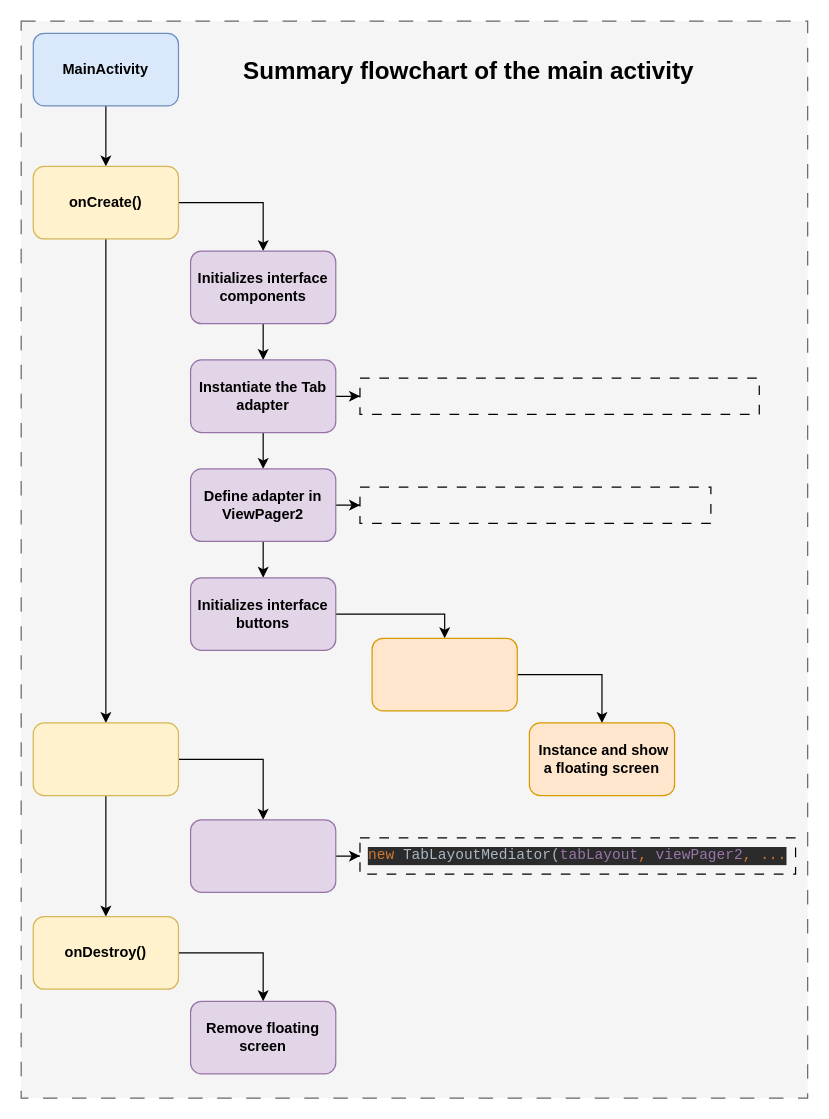
This 829x1119 diagram has some shape labels left out. Here are the shapes that lost their labels. From the top down, the box of each, then its label:
(359, 377, 759, 414): tabsSetAdapter = new TabsSetAdapter( this ) ;
(359, 486, 711, 523): viewPager2 .setAdapter( tabsSetAdapter ) ;
(371, 637, 517, 711): Check permissions
(32, 722, 178, 796): onStart()
(189, 819, 336, 892): Integrates tabLayout with viewPage2
